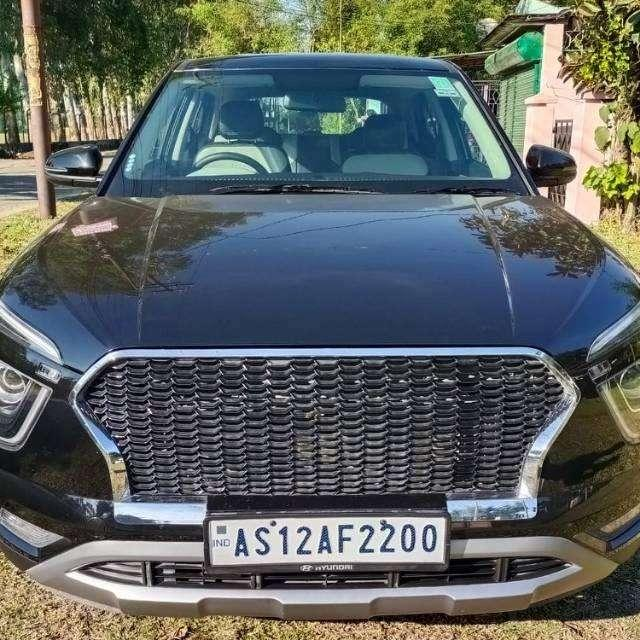Indian_Number_Plate: (204, 518, 447, 568)
